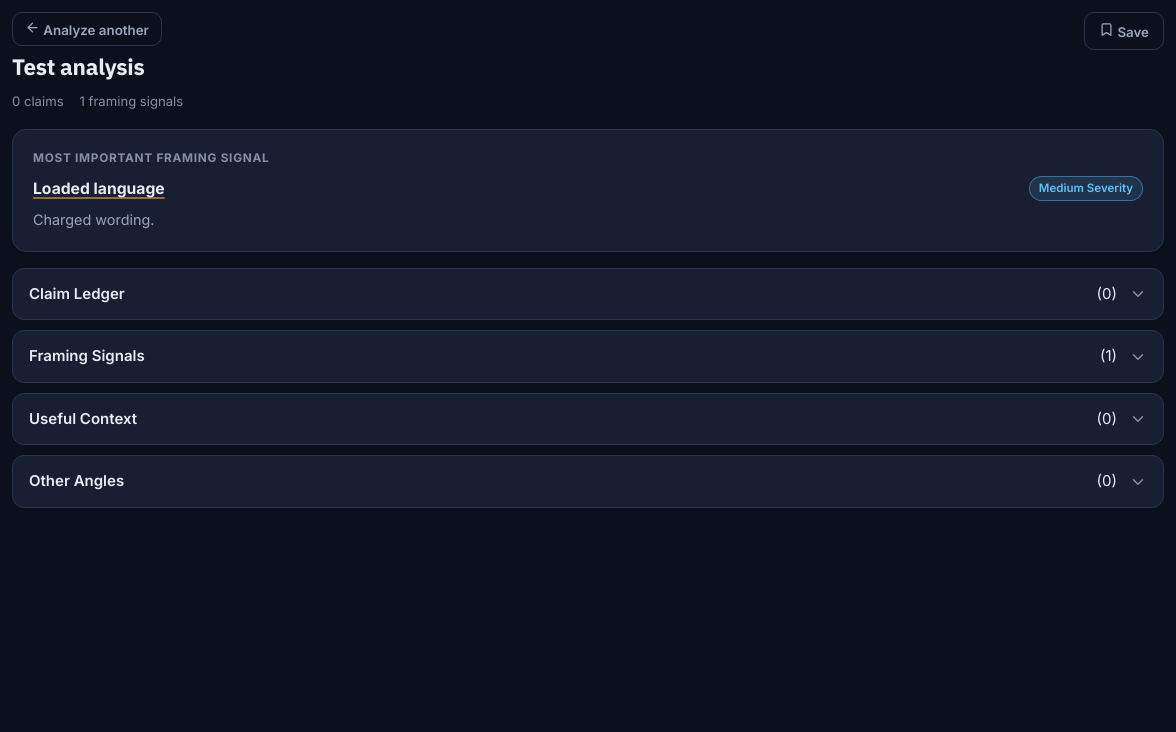
Report gated controls — not configured › Save shows the unavailable message and sends nothing
Click the button "Save" at coordinates (1124, 31), box [1084, 12, 1164, 50]
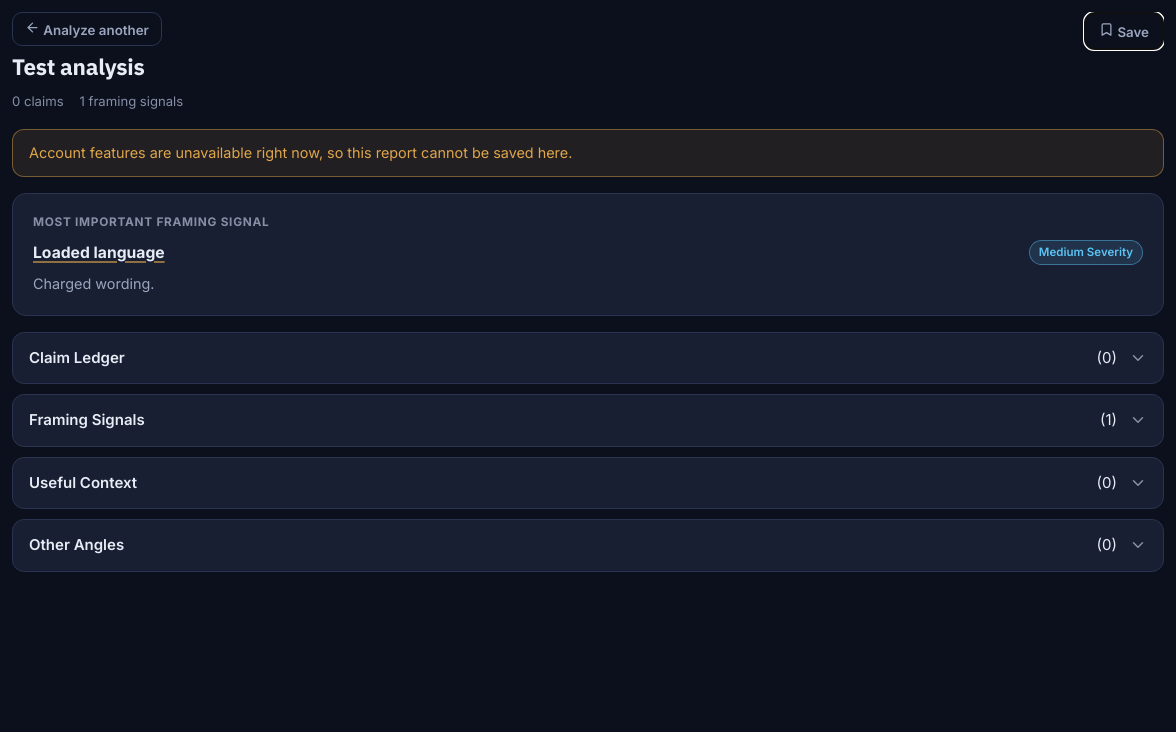
Result: the text "Account features are unavailable" is shown at [29, 144, 572, 161]
